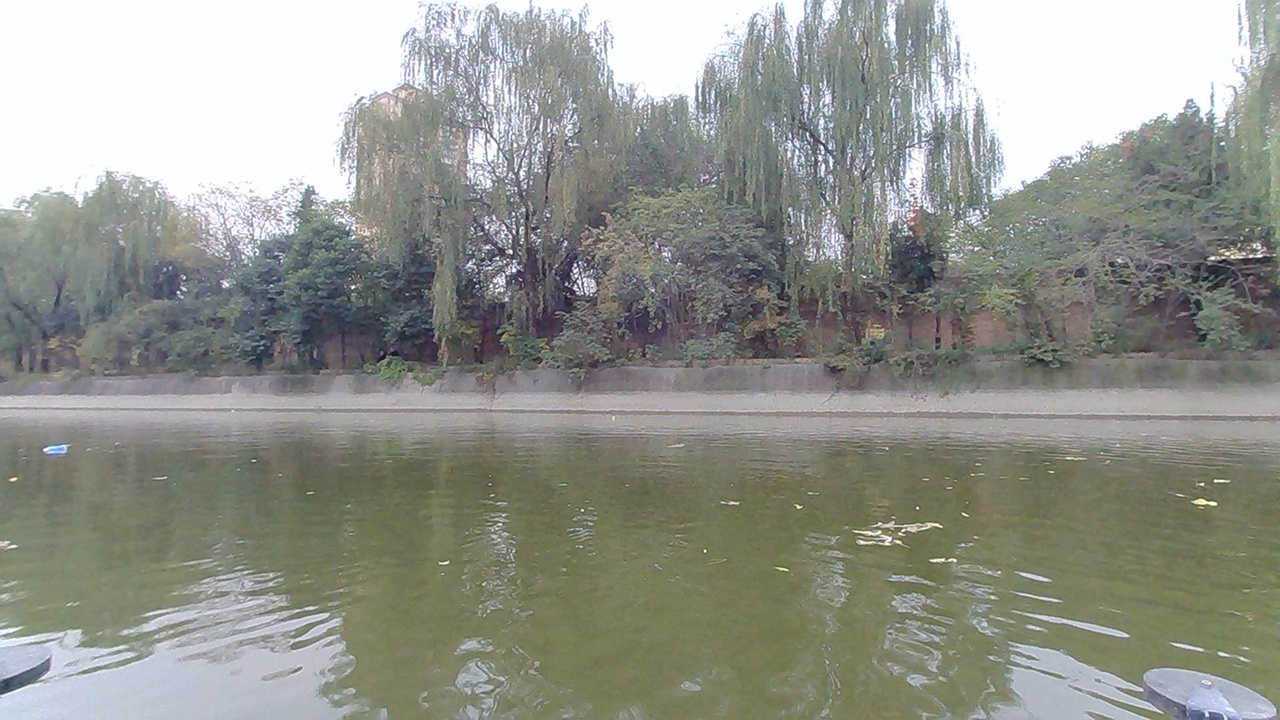bottle: (41, 438, 74, 462)
